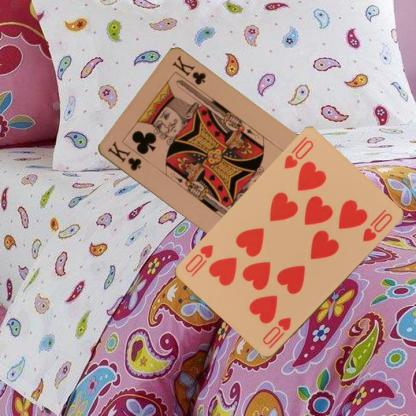10h: (260, 315, 293, 351), (281, 138, 315, 171)
Kc: (104, 138, 142, 172)
